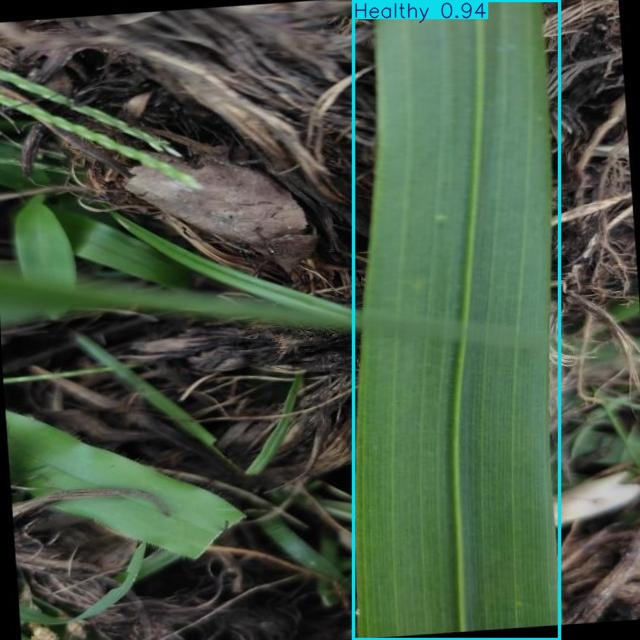Healthy: (354, 0, 560, 639)
